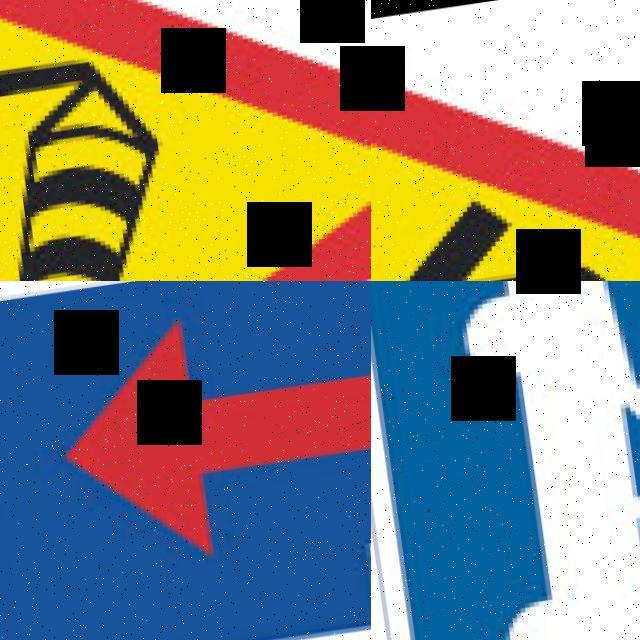155: (0, 0, 371, 281)
166: (371, 0, 640, 281)
69: (371, 281, 640, 640)
Priority over oncoming vehicles: (0, 281, 371, 640)
